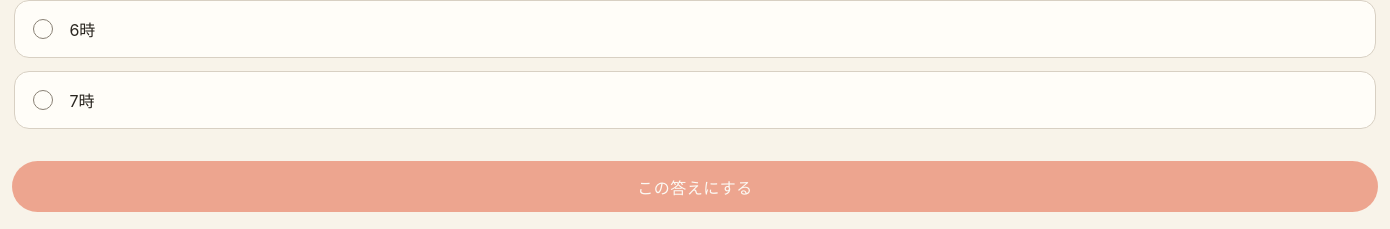
it: submits one selected option and disables controls while pending
What coordinates should you click on to do the following:
click the radio button labelled "7時"
I would click on:
 (43, 100)
Its box is [14,71,1376,129].
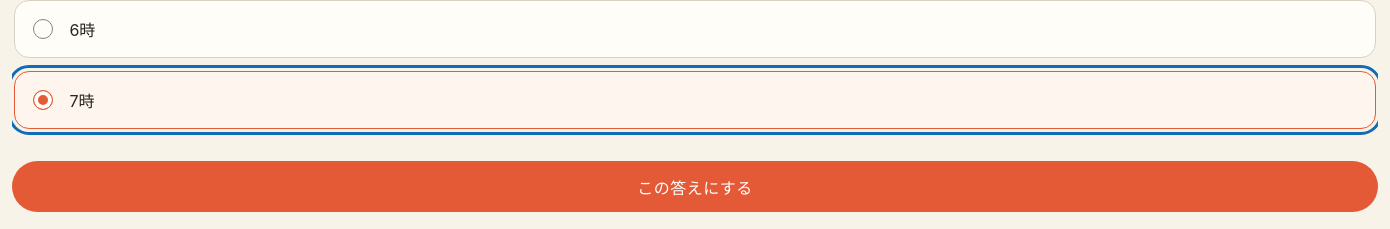
What coordinates should you click on to do the following:
click the button "この答えにする"
I would click on:
 (695, 187)
Its box is [12,161,1378,212].
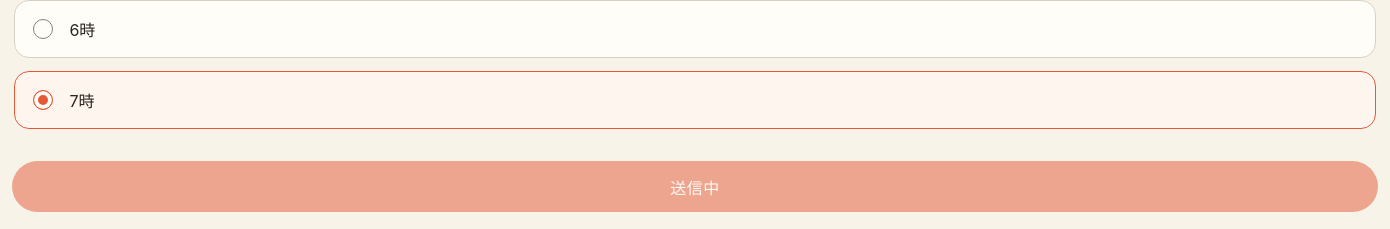
Check: the radio button labelled "7時" is disabled, box [14,71,1376,129]
Check: the button "送信中" is disabled, box [12,161,1378,212]
